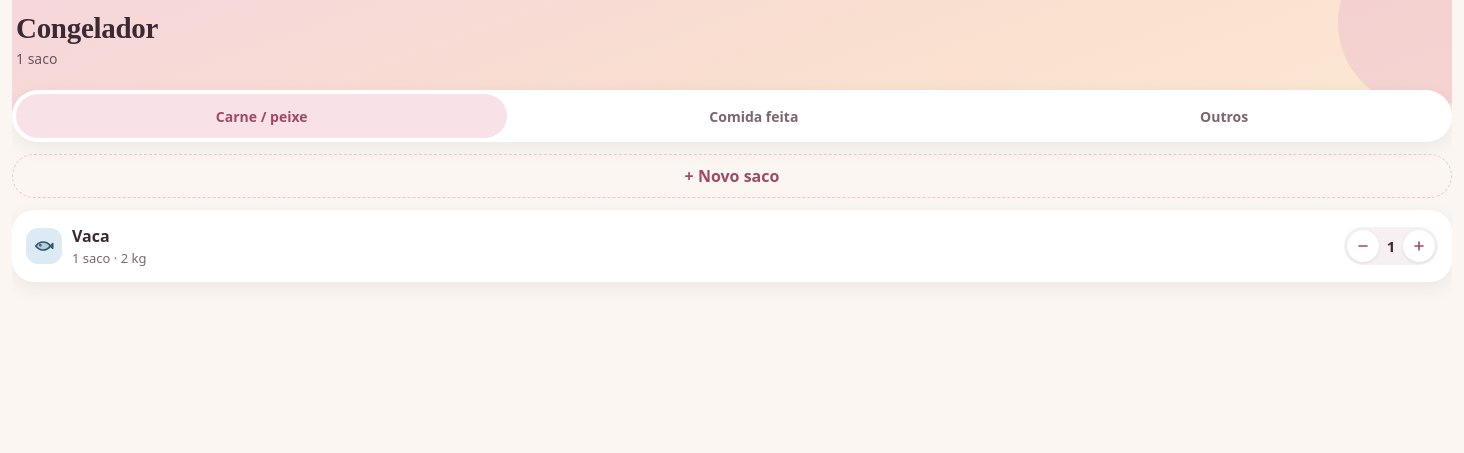
Test: if the split is refused, it says so instead of doing nothing
Click the text "Vaca": (91, 236) [72, 225, 110, 247]
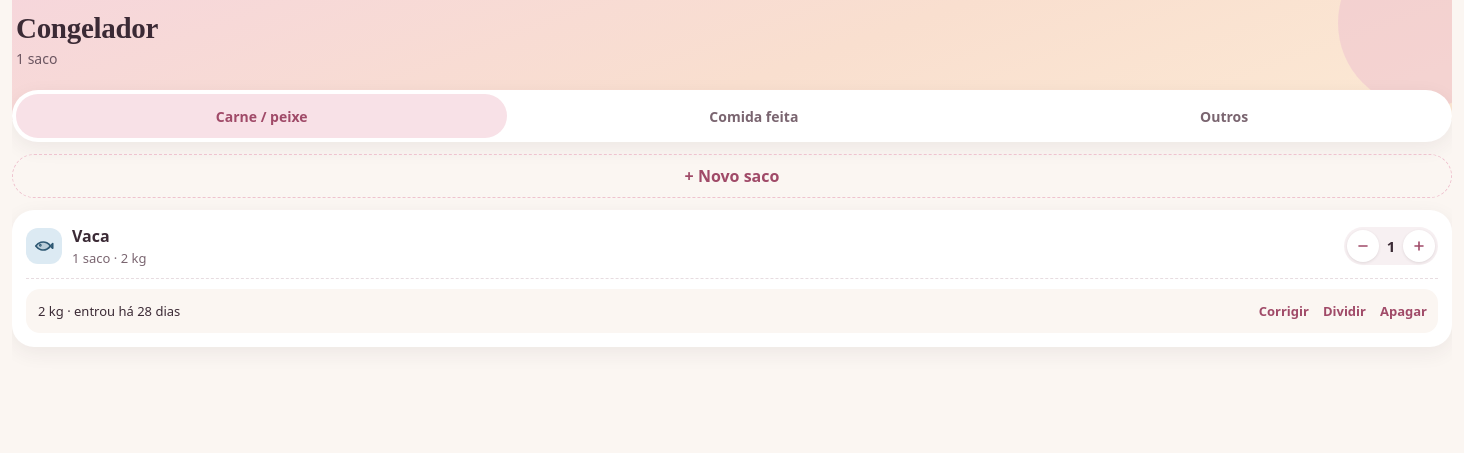
Click the button with aria-label "Dividir o saco 1": (1344, 311) [1316, 289, 1373, 333]
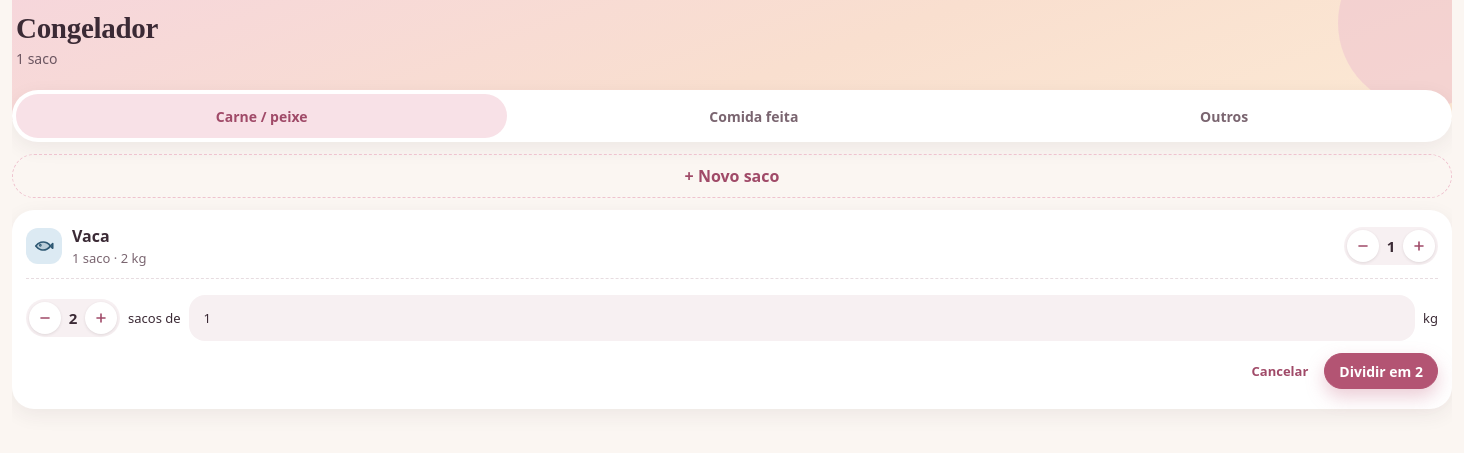
Click the button "Dividir em 2": (1381, 371) [1324, 353, 1438, 389]
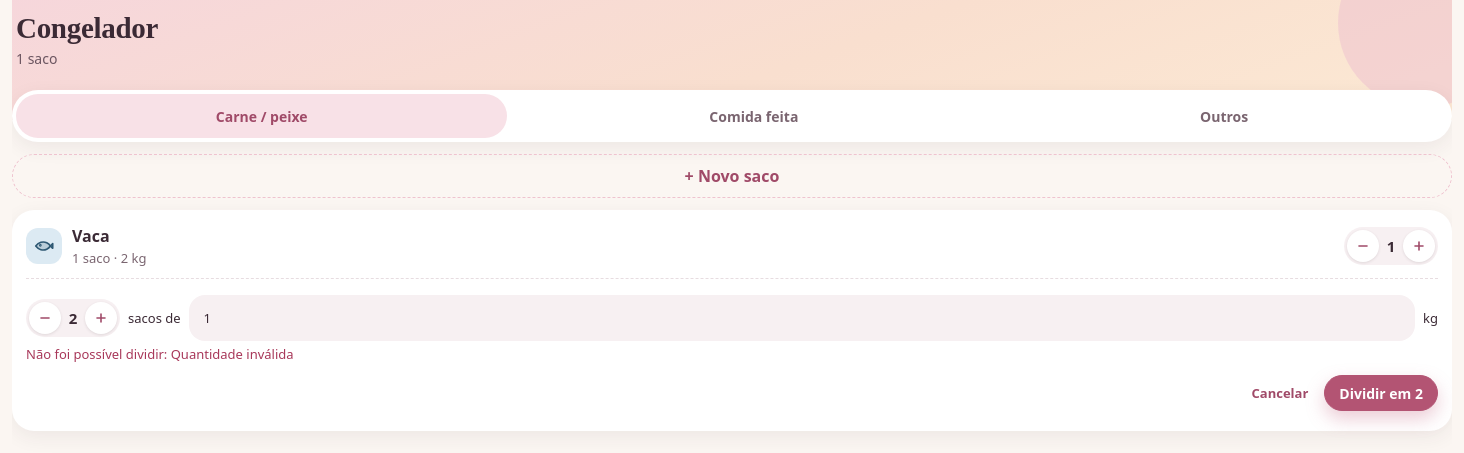
Expected: the text "Não foi possível dividir: Quantidade inválida" is shown, [26, 345, 294, 363]
